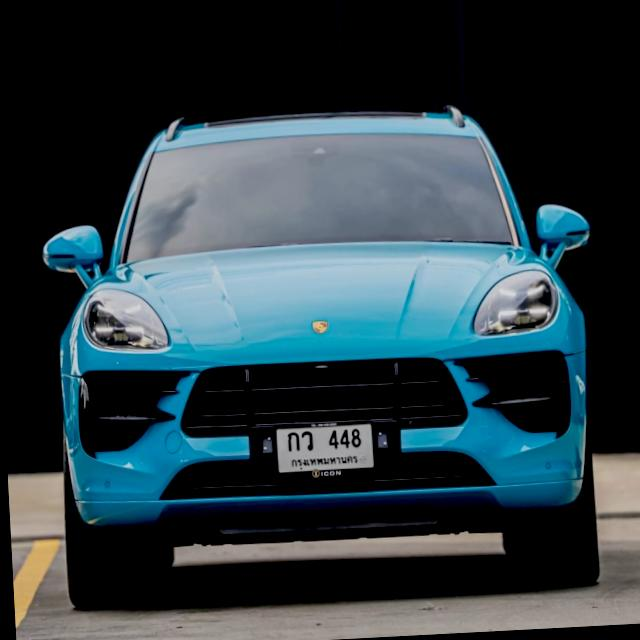license_plate: (274, 421, 381, 480)
